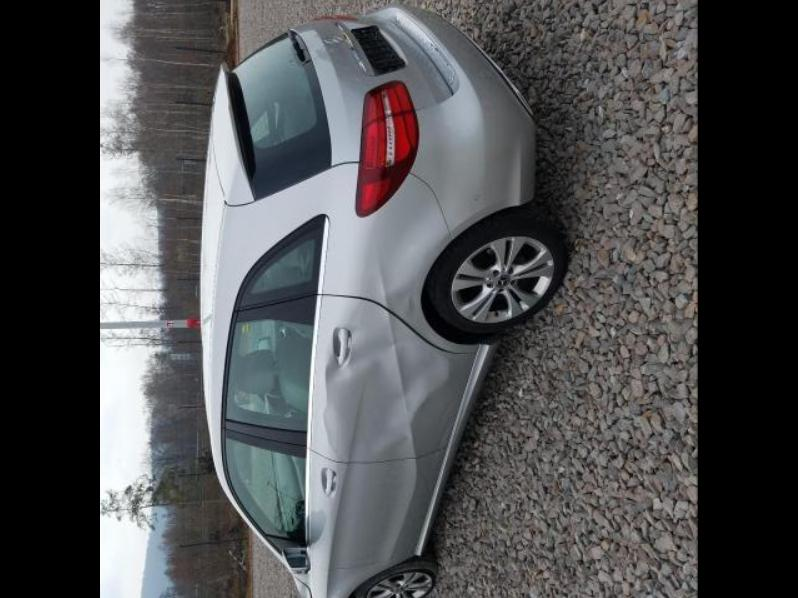Dent: (322, 305, 449, 460), (389, 285, 411, 317)
Missing part: (353, 24, 402, 74)
